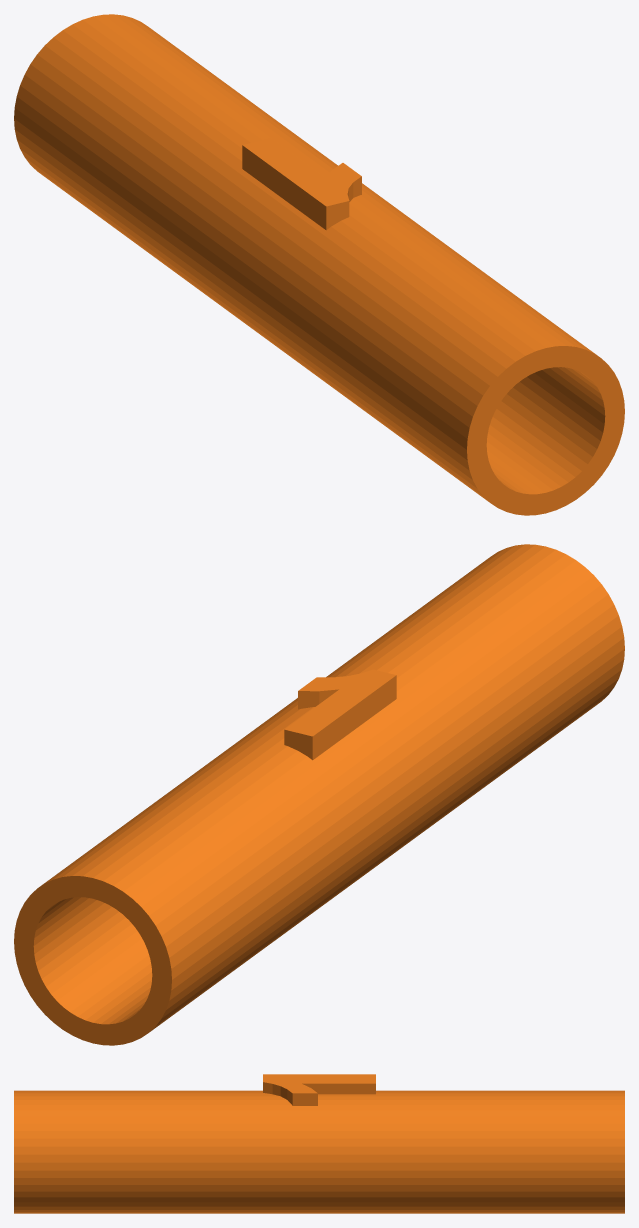
Rendered from dc_motor_test_1.obj.
3 renders of one model, top to bottom at view 1: azimuth 30°, elevation 25°; view 2: azimuth 150°, elevation 25°; view 3: azimuth 270°, elevation 25°, orthographic. The views are drawn at different scales.
Visible parts, largest first — view 1: obj_0; view 2: obj_0; view 3: obj_0.
Boxes of the visible parts, <box> form: obj_0: <box>14,14,624,515</box>; obj_0: <box>14,544,624,1045</box>; obj_0: <box>14,1074,624,1213</box>.
Size of the model in its own units: 2.16 by 2.36 by 10.72.
